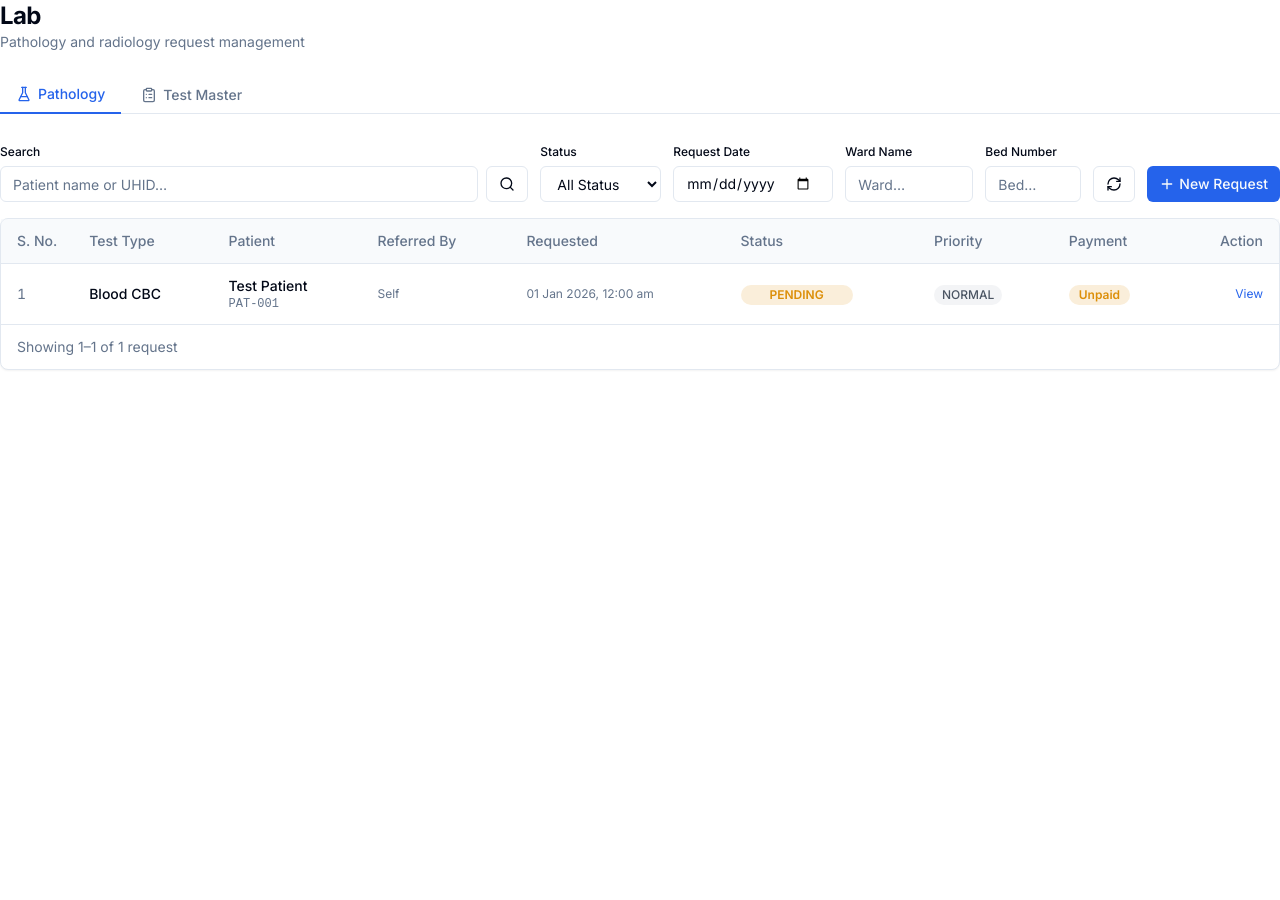
Scenario: DeleteRequestModal — pathology › opens Delete confirmation modal when Delete button is clicked
The width and height of the screenshot is (1280, 900).
Click the button "View" at (1249, 294), box [1235, 286, 1263, 302]
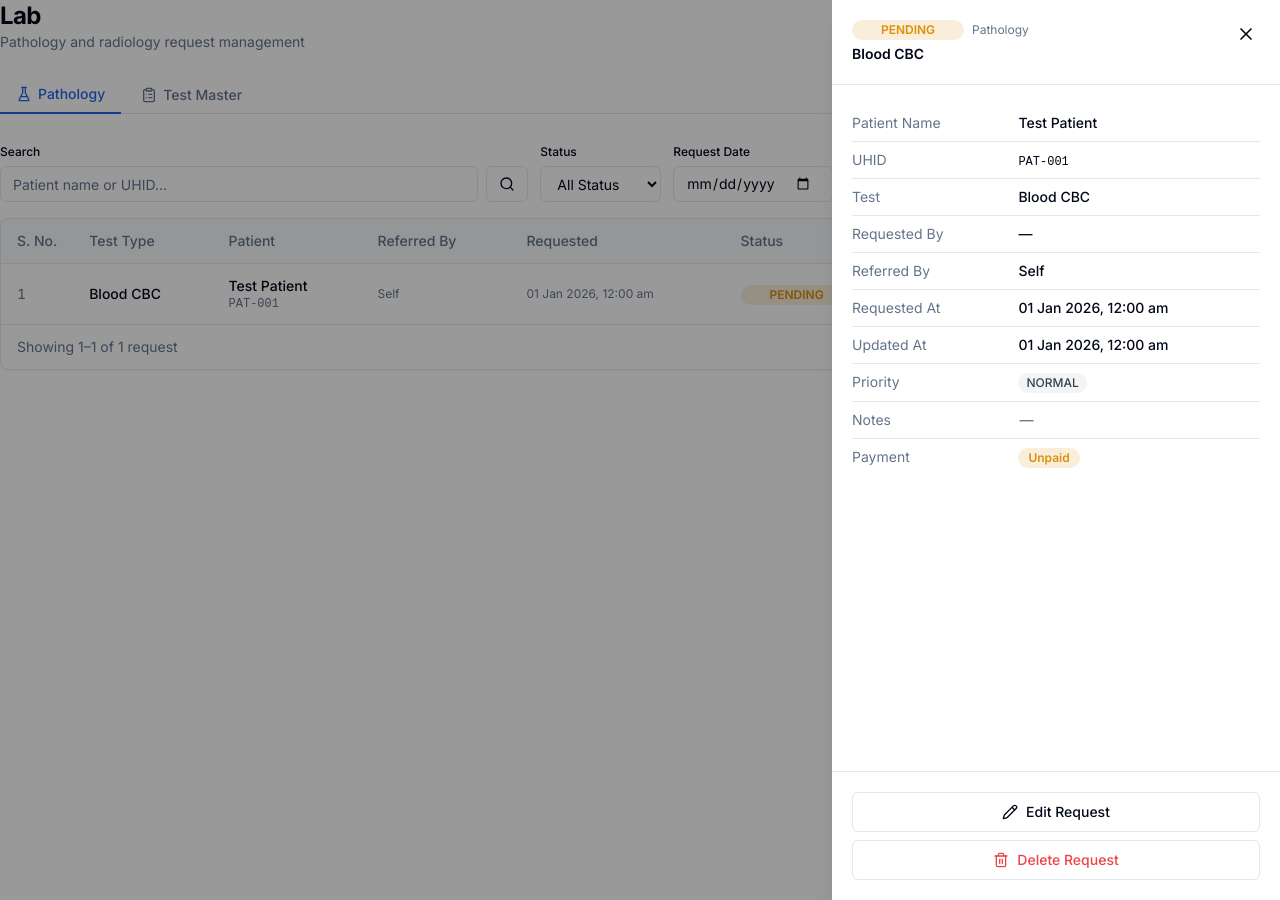
Click the button "Delete Request" at (1056, 860), box [852, 840, 1260, 880]
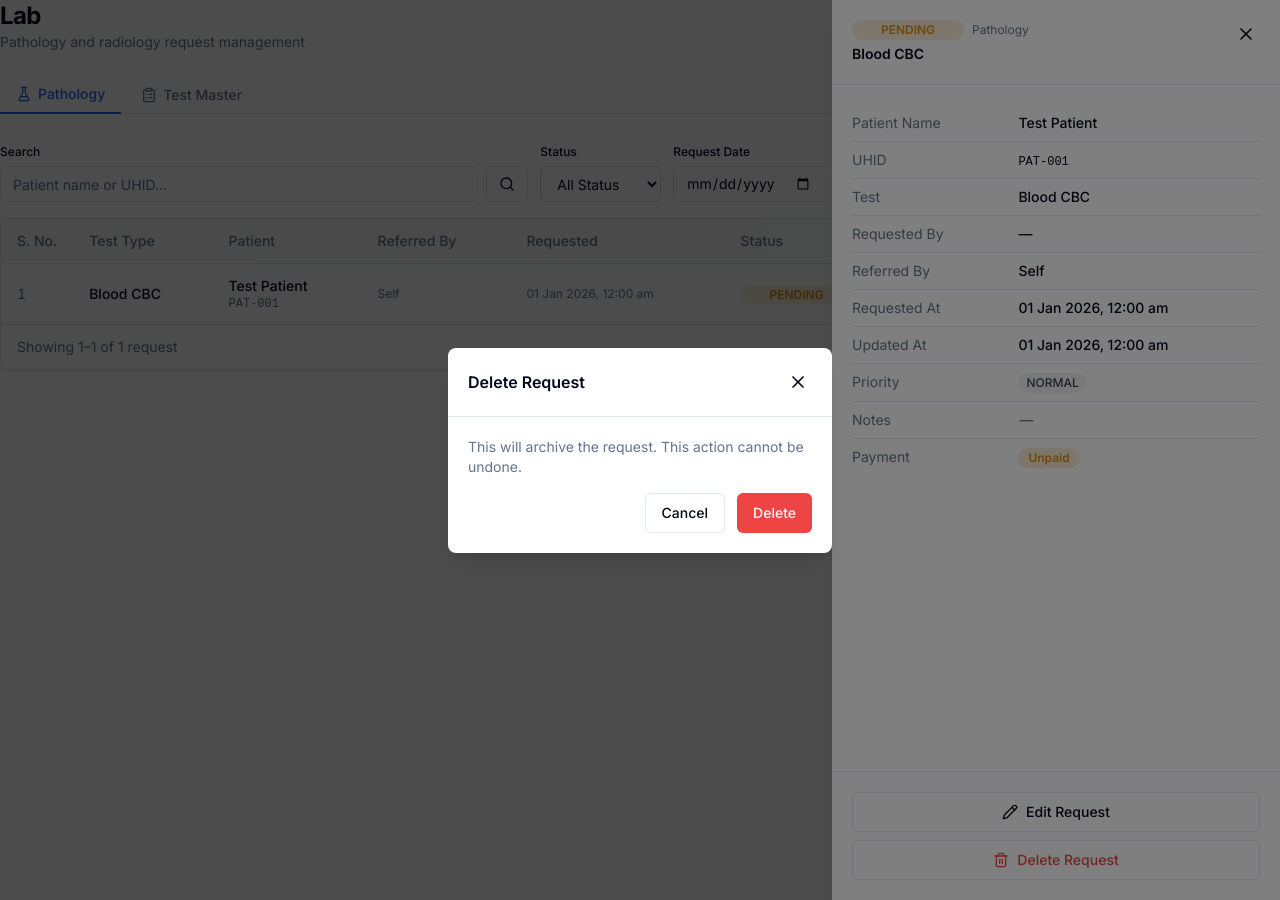
Expected: the text "This will archive the request. This action cannot be undone." is shown, [468, 436, 812, 476]
